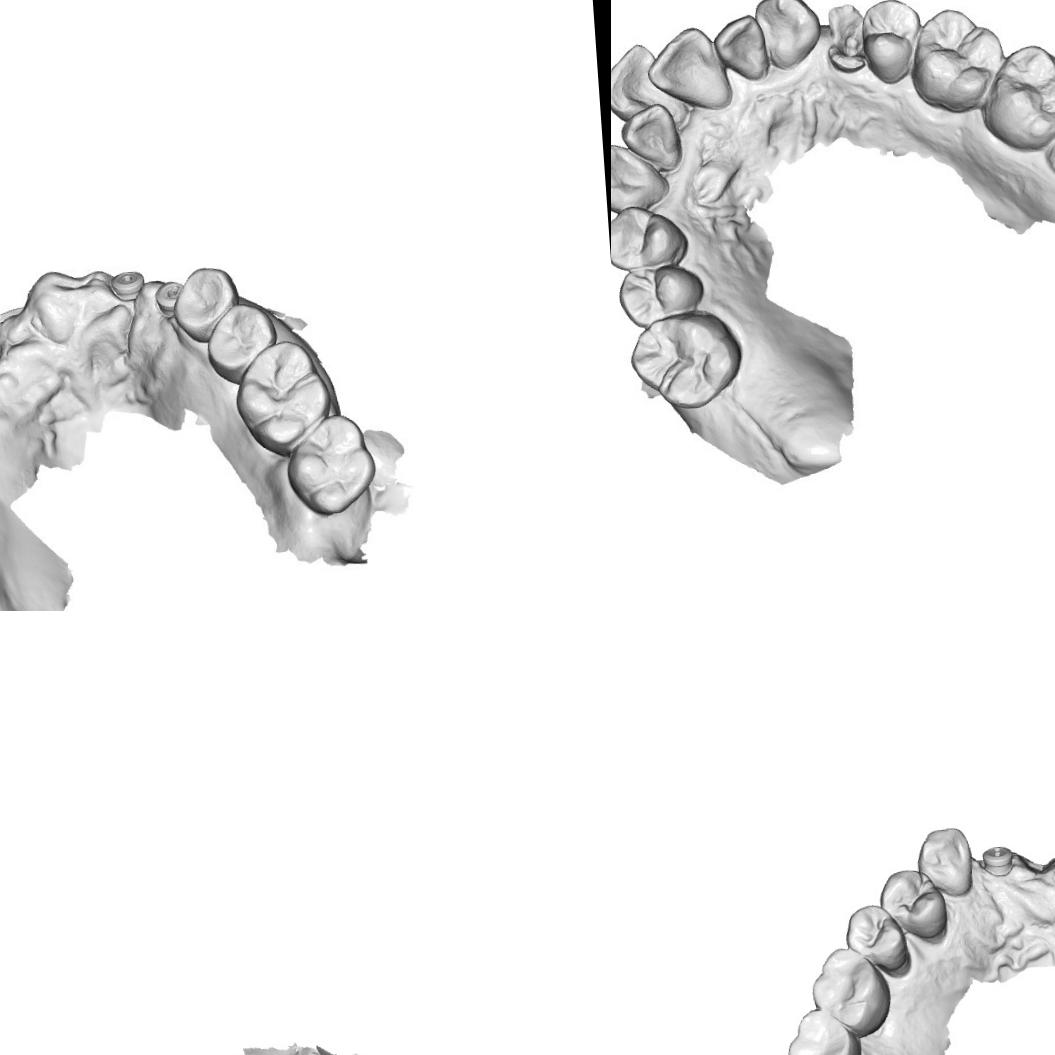canine: (754, 0, 822, 68), (913, 825, 976, 898), (611, 140, 669, 215)
implant: (107, 259, 147, 309), (150, 274, 188, 316), (0, 331, 12, 383)
implant_minus: (979, 844, 1016, 878)
incisor: (648, 26, 733, 107), (611, 44, 685, 131), (717, 13, 773, 84), (626, 105, 682, 171)
molar: (228, 334, 336, 453), (626, 309, 742, 412), (279, 410, 378, 520), (907, 0, 1002, 113), (975, 40, 1055, 159), (806, 943, 893, 1042), (782, 1003, 864, 1055)
premolar: (201, 297, 279, 386), (170, 260, 242, 347), (856, 0, 925, 88), (616, 258, 704, 326), (836, 900, 912, 978), (874, 866, 950, 944), (611, 203, 686, 276)
